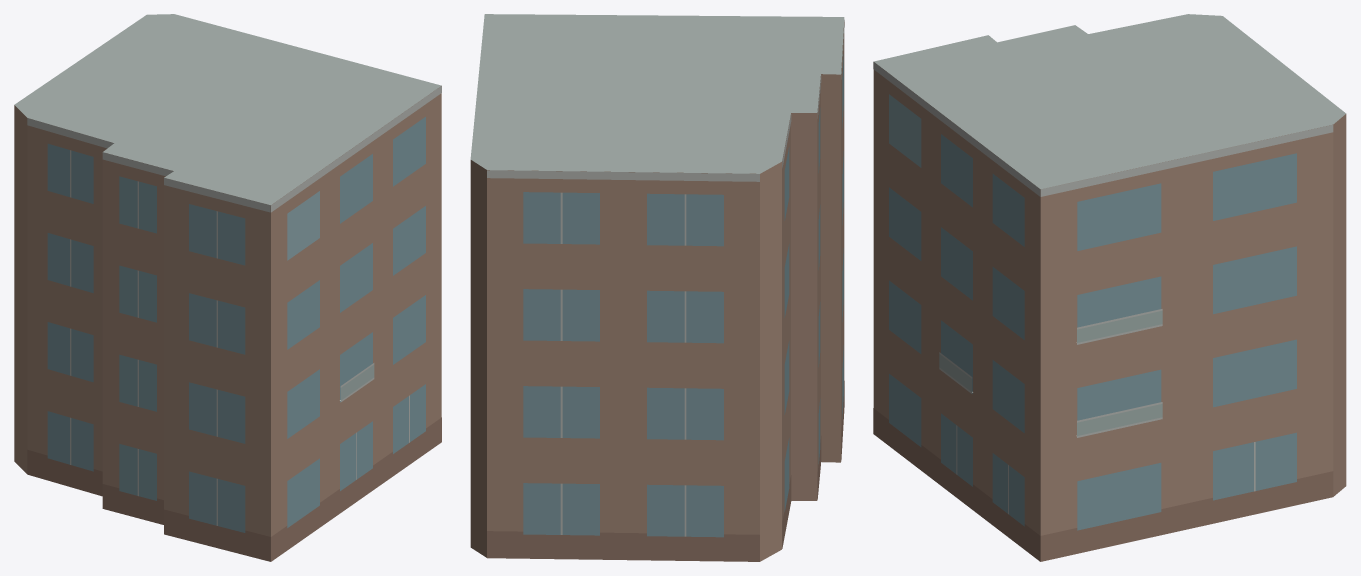
The model's file is survey-upis-32466921.glb.
3 views of the same model, side by side, from view 1: azimuth 30°, elevation 25°; view 2: azimuth 150°, elevation 25°; view 3: azimuth 270°, elevation 25° (orthographic). The views are drawn at different scales.
Parts seen in each view (by area): view 1: survey-upis-32466921.tmp; view 2: survey-upis-32466921.tmp; view 3: survey-upis-32466921.tmp.
Boxes of the visible parts, bbox=[...] form: survey-upis-32466921.tmp: bbox=[14, 14, 441, 561]; survey-upis-32466921.tmp: bbox=[470, 14, 844, 561]; survey-upis-32466921.tmp: bbox=[873, 14, 1346, 561].
Size of the model in its own units: 11.9 by 11.78 by 13.56.
